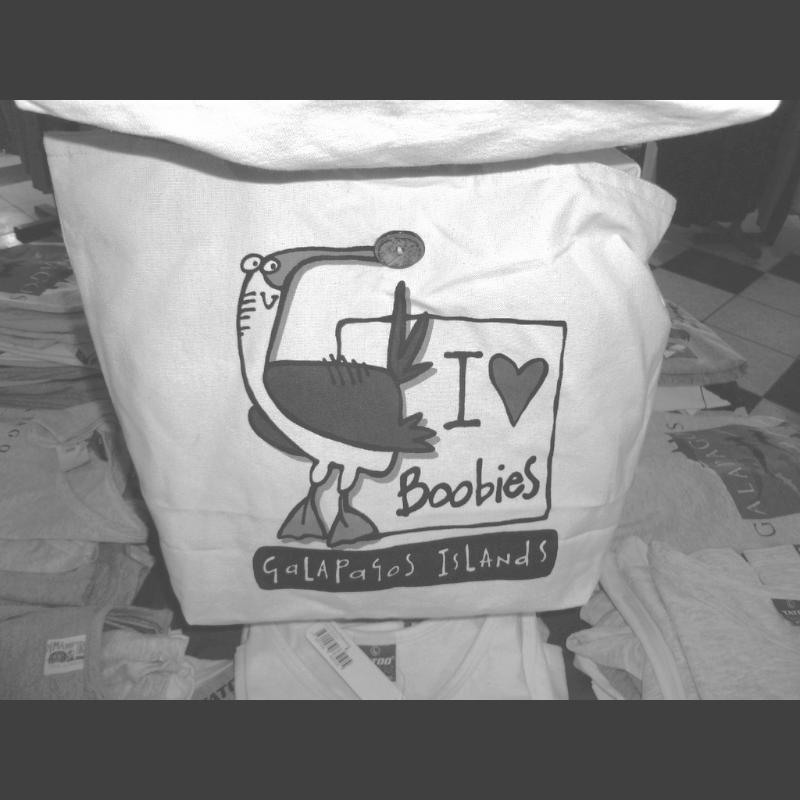pillow: (87, 118, 650, 650)
